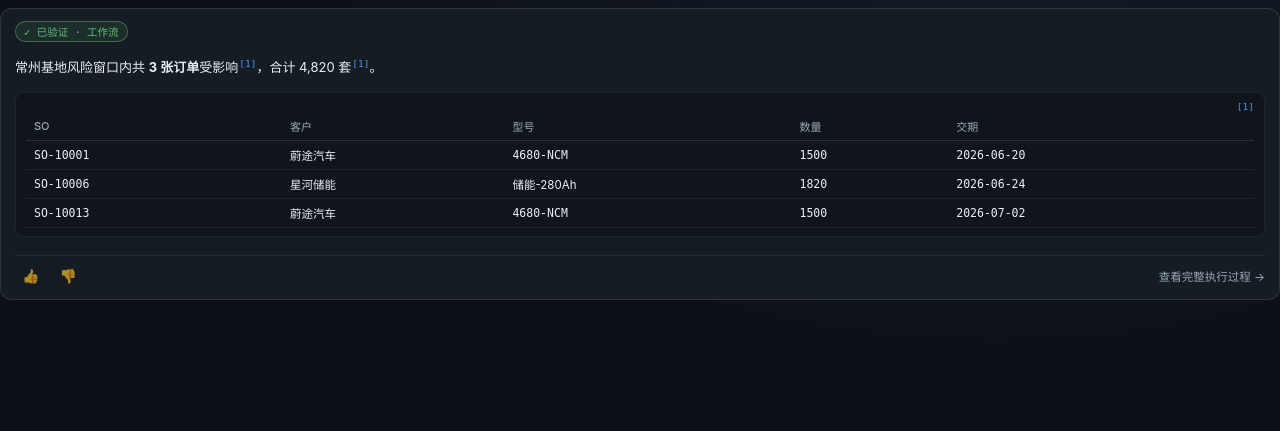
Test: F5 · 溯源弹窗（全局唯一组件） › table 表头角标点击打开
The image size is (1280, 431).
# 同一 provId 在 text 与 table 表头都有角标；取 table 内的那个
Click the 3rd button with test id "prov-mark-prov-a1-1" at (1245, 107), box [1237,101,1254,112]
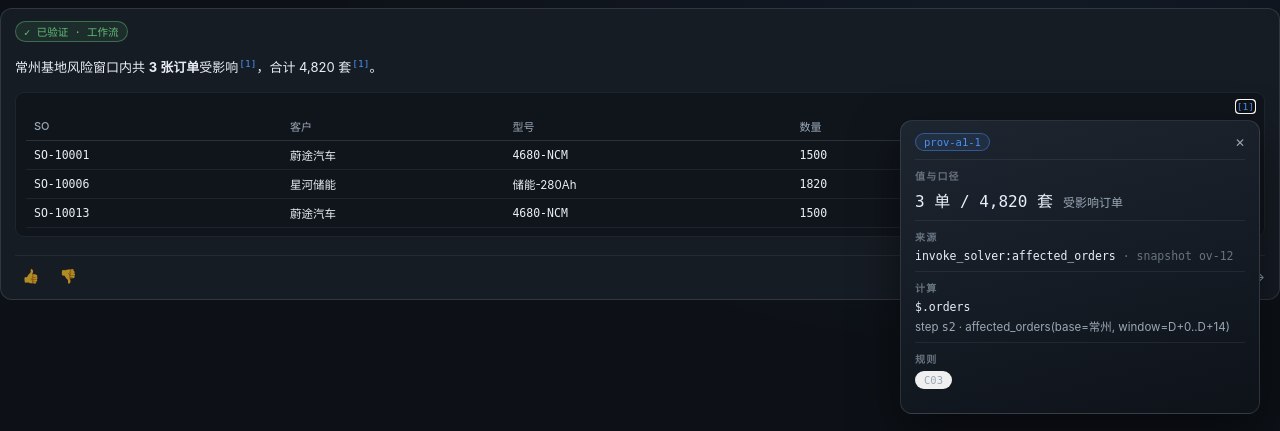
Now the heading "值与口径" is shown, box [915,171,960,182]
Now the heading "来源" is shown, box [915,232,937,243]
Now the heading "计算" is shown, box [915,283,937,294]
